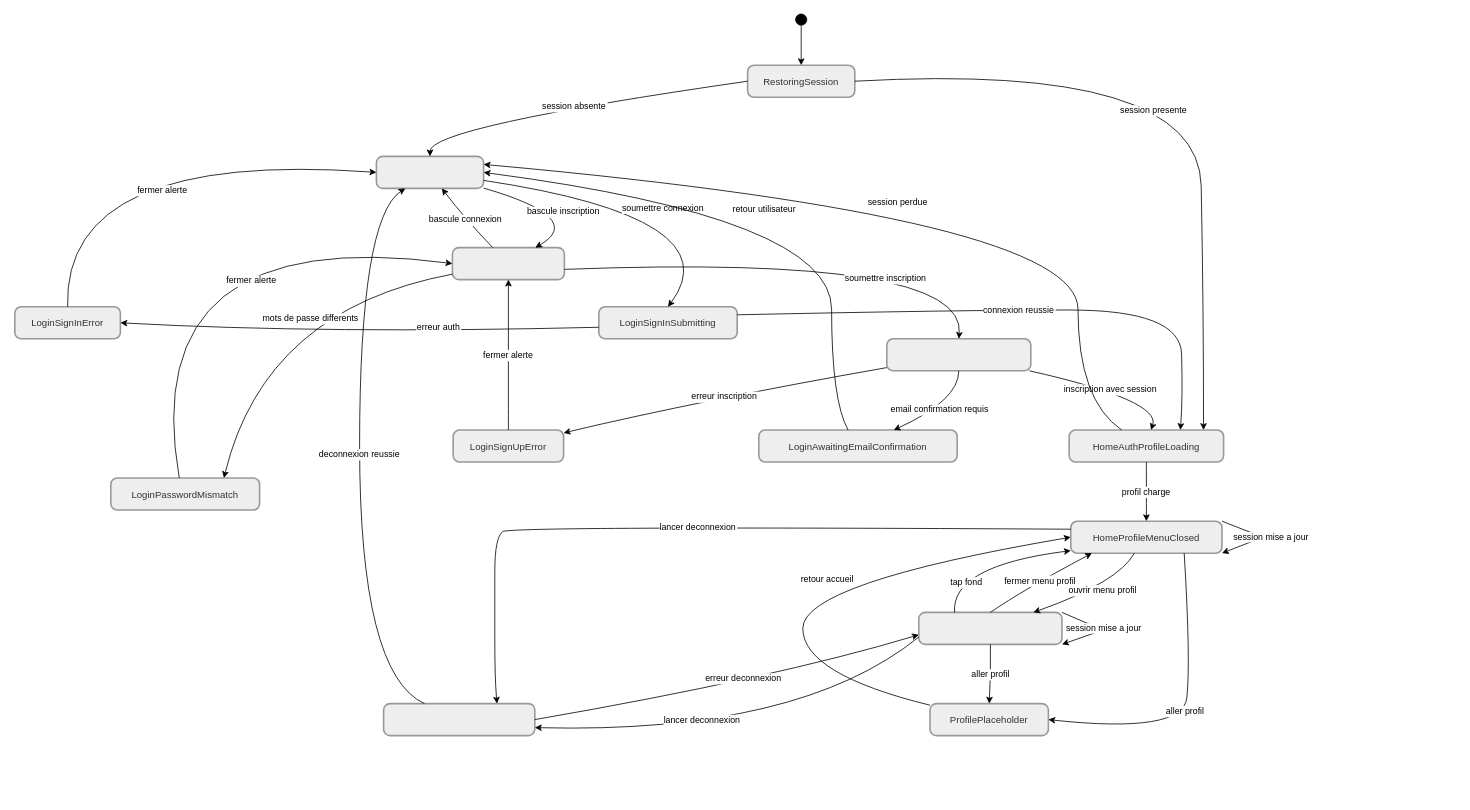
This 1470x810 diagram has some shape labels left out. The shapes that lost their labels are listed below. From the top down, each one's centre as x and y in pixels, then its label:
At (429,172): "LoginSignInMode".
At (508,263): "LoginSignUpMode".
At (958,354): "LoginSignUpSubmitting".
At (990,628): "HomeProfileMenuOpen".
At (458,719): "HomeSignOutSubmitting".
